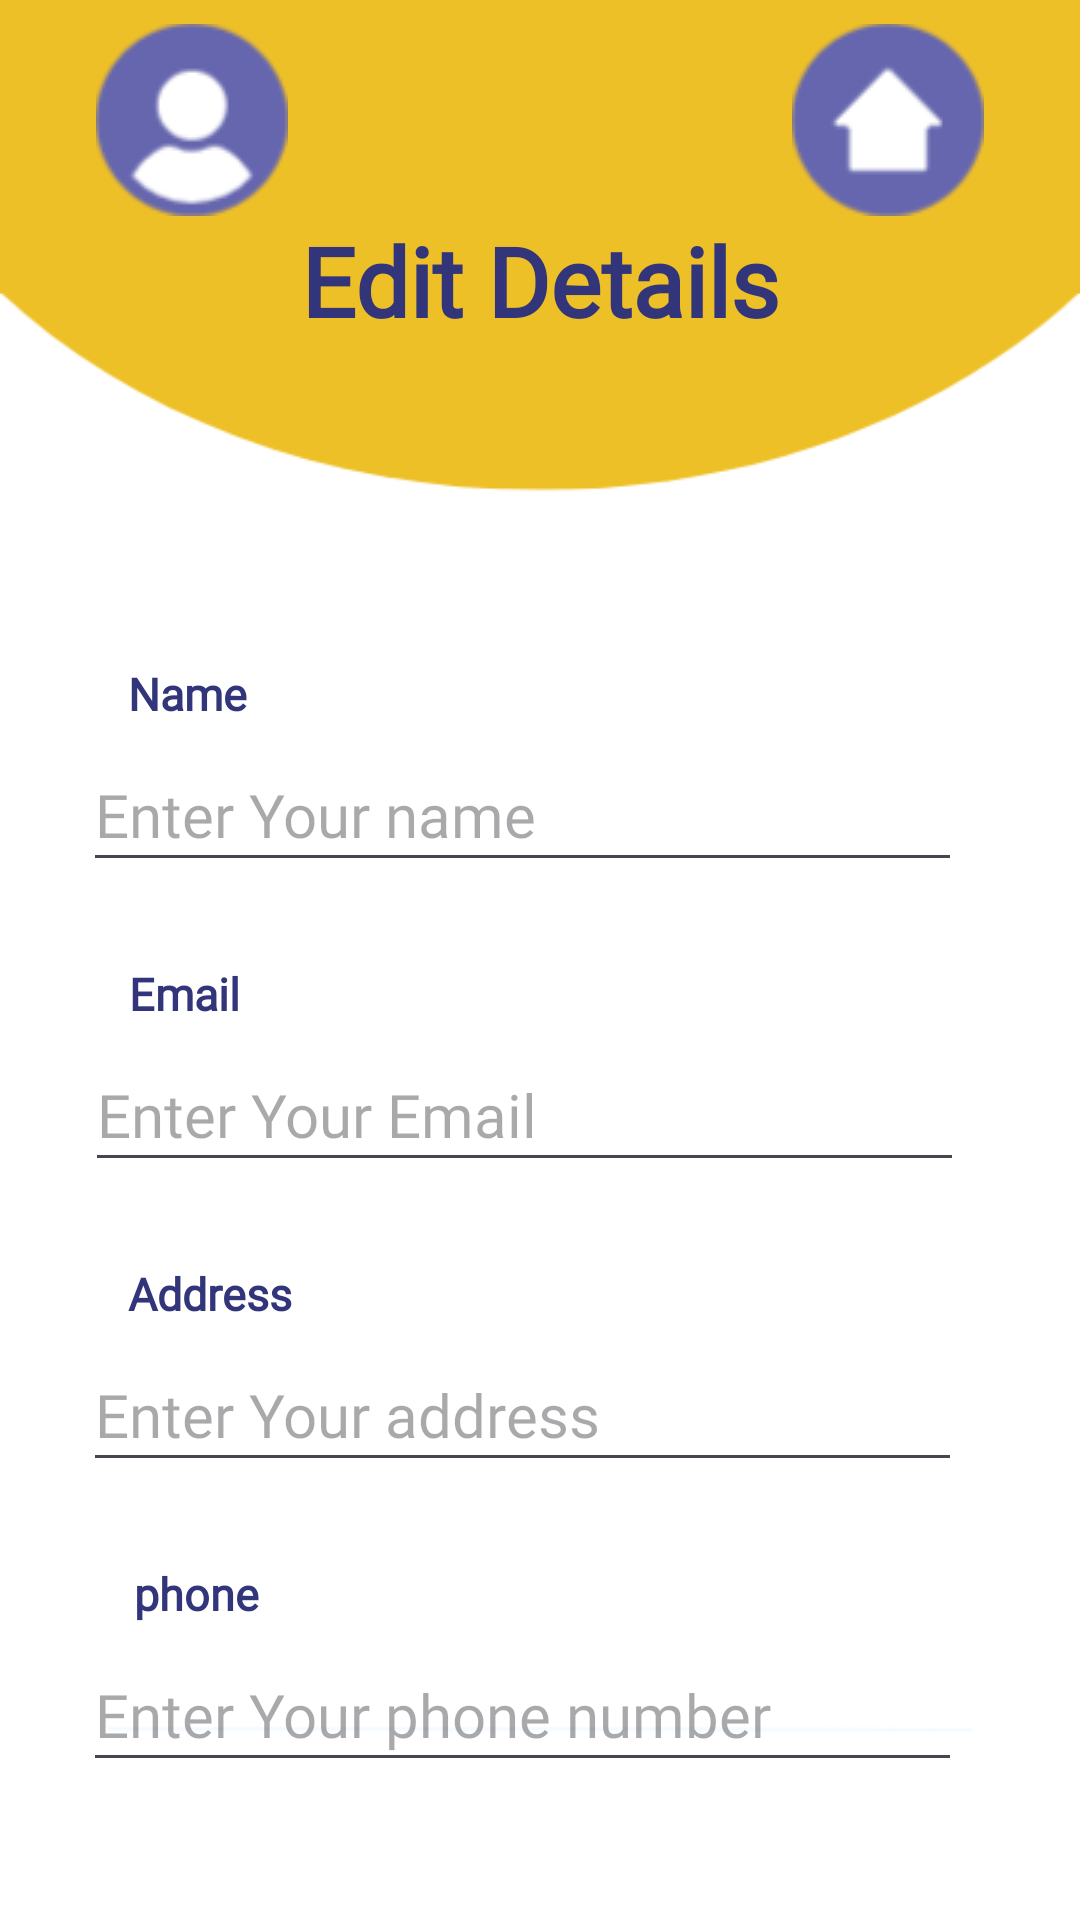

Point at icon controls on the screen. Image size 1080*1920, points as point (x, y).
homenew: point (888, 120)
profilenew: point (192, 120)
